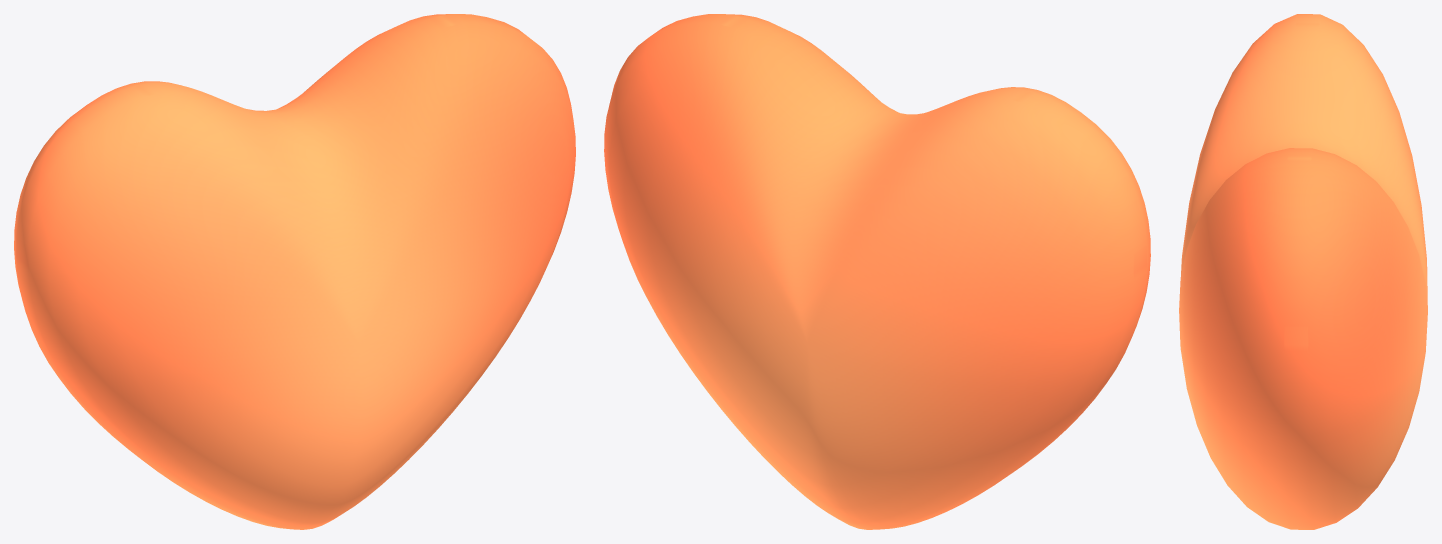
The model's file is heart-peach-fusion-v13.glb.
3 renders of one model, left to right at view 1: azimuth 30°, elevation 25°; view 2: azimuth 150°, elevation 25°; view 3: azimuth 270°, elevation 25°, orthographic. The views are drawn at different scales.
Visible parts, largest first — view 1: Heart_Glass; view 2: Heart_Glass; view 3: Heart_Glass.
Part boxes in pixels (box(x1,y1,x2,y2)): Heart_Glass: box(14, 14, 575, 529); Heart_Glass: box(604, 14, 1150, 529); Heart_Glass: box(1179, 14, 1427, 529).
Size of the model in its own units: 0.0801 by 0.0665 by 0.0347.
Materials: 1 (1 with a texture image).
